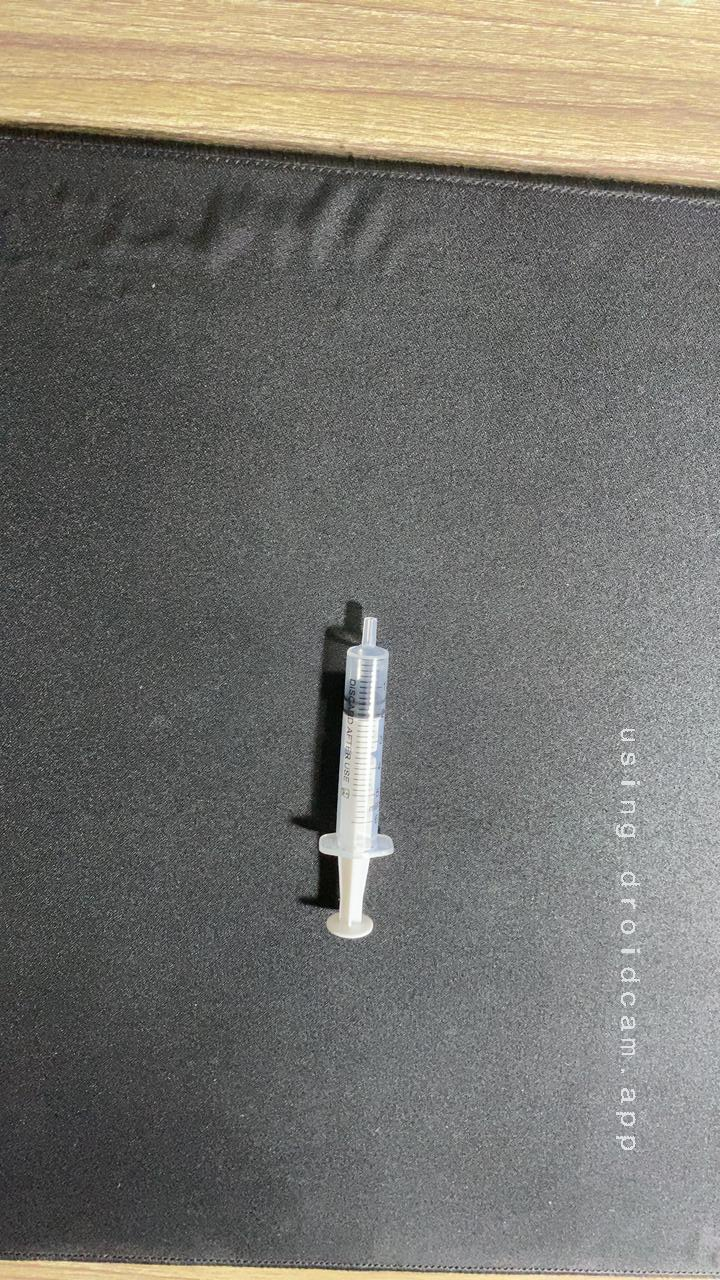syringe: (274, 592, 445, 959)
